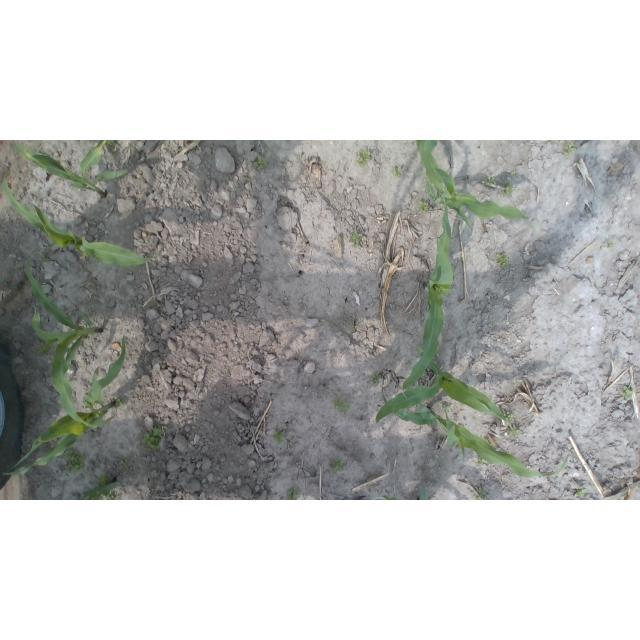Maize: (2, 333, 129, 479), (378, 388, 571, 478), (26, 256, 111, 433), (2, 178, 162, 267), (414, 141, 538, 237), (402, 201, 459, 399), (375, 346, 510, 425), (13, 141, 130, 199)
Weeds: (60, 446, 87, 475), (143, 428, 166, 453), (503, 414, 522, 437), (330, 456, 346, 472), (356, 150, 372, 165), (284, 487, 300, 500), (440, 399, 453, 413), (253, 156, 266, 170), (332, 399, 348, 410), (97, 474, 111, 486), (351, 231, 363, 245), (504, 184, 515, 198), (564, 144, 578, 155), (622, 388, 634, 400), (418, 199, 431, 210), (485, 176, 496, 189), (120, 460, 133, 471), (275, 431, 286, 444), (574, 487, 586, 498), (499, 256, 510, 267), (477, 487, 487, 498), (394, 168, 403, 177), (371, 376, 379, 386), (478, 456, 485, 465), (508, 171, 516, 178), (605, 243, 615, 248), (637, 141, 640, 155), (353, 326, 360, 332)
